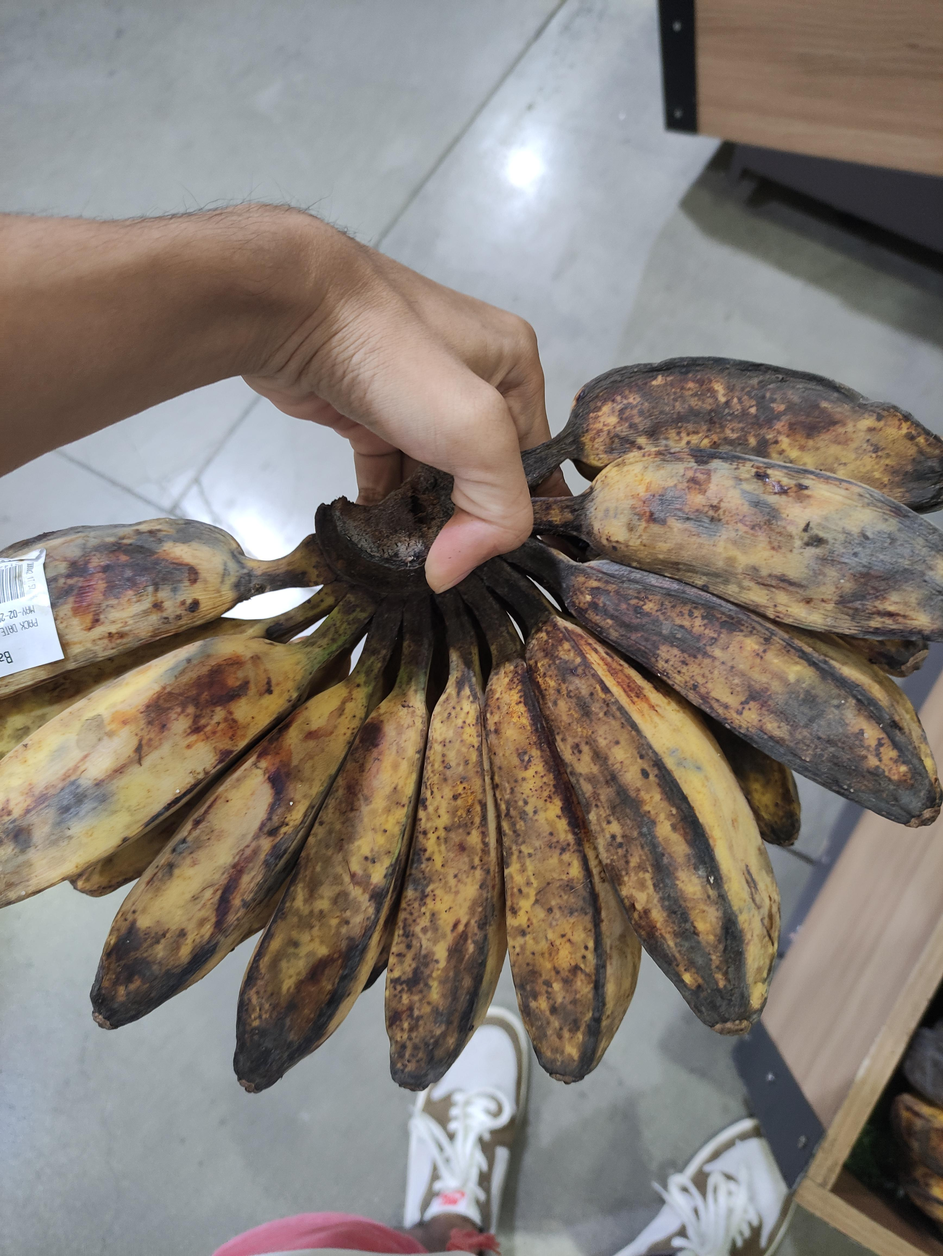ripe: (0, 355, 943, 1094)
